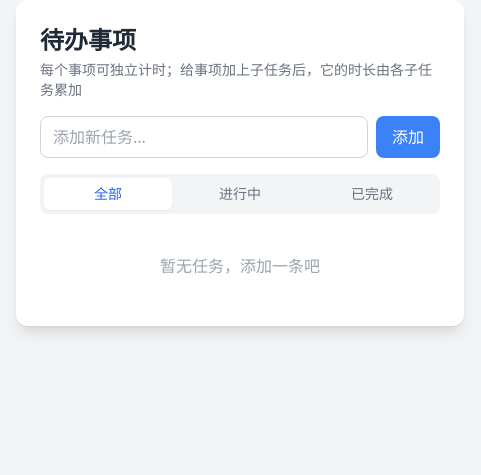
Scenario: 编辑任务
Type "旧文本" into the field with placeholder "添加新任务...".
click(204, 137); type("旧文本")  # box x1=40 y1=116 x2=368 y2=158
Then press Enter
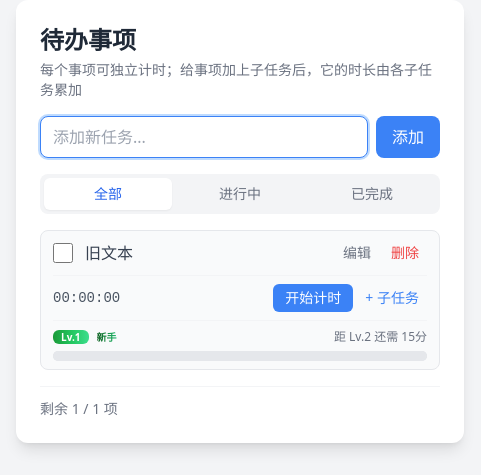
expect the text "旧文本" is shown: met, box x1=85 y1=242 x2=133 y2=264
Click the button with aria-label "编辑任务".
click(357, 253)  # box x1=335 y1=239 x2=379 y2=267
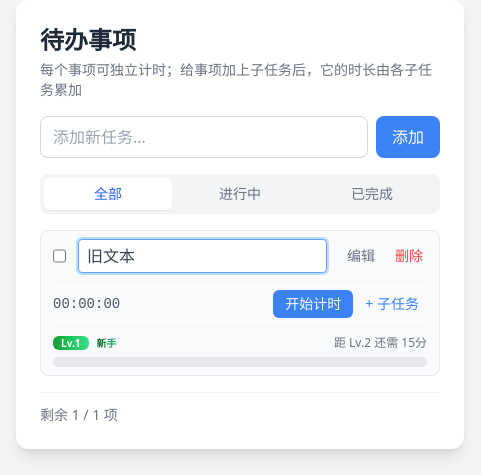
Replace the text in the field showing "旧文本" with "新文本" at (202, 256), box x1=78 y1=239 x2=327 y2=273
Then press Enter
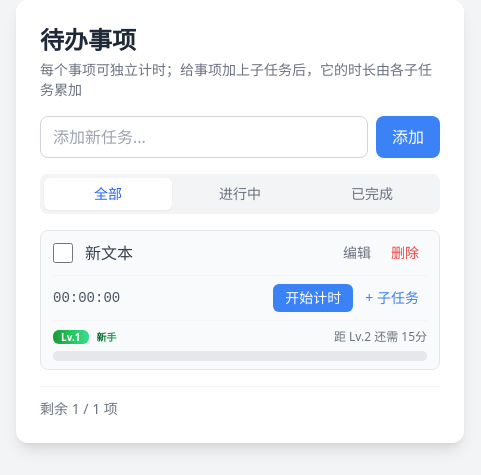
expect the text "旧文本" is not shown: met
expect the text "新文本" is shown: met, box x1=85 y1=242 x2=133 y2=264
